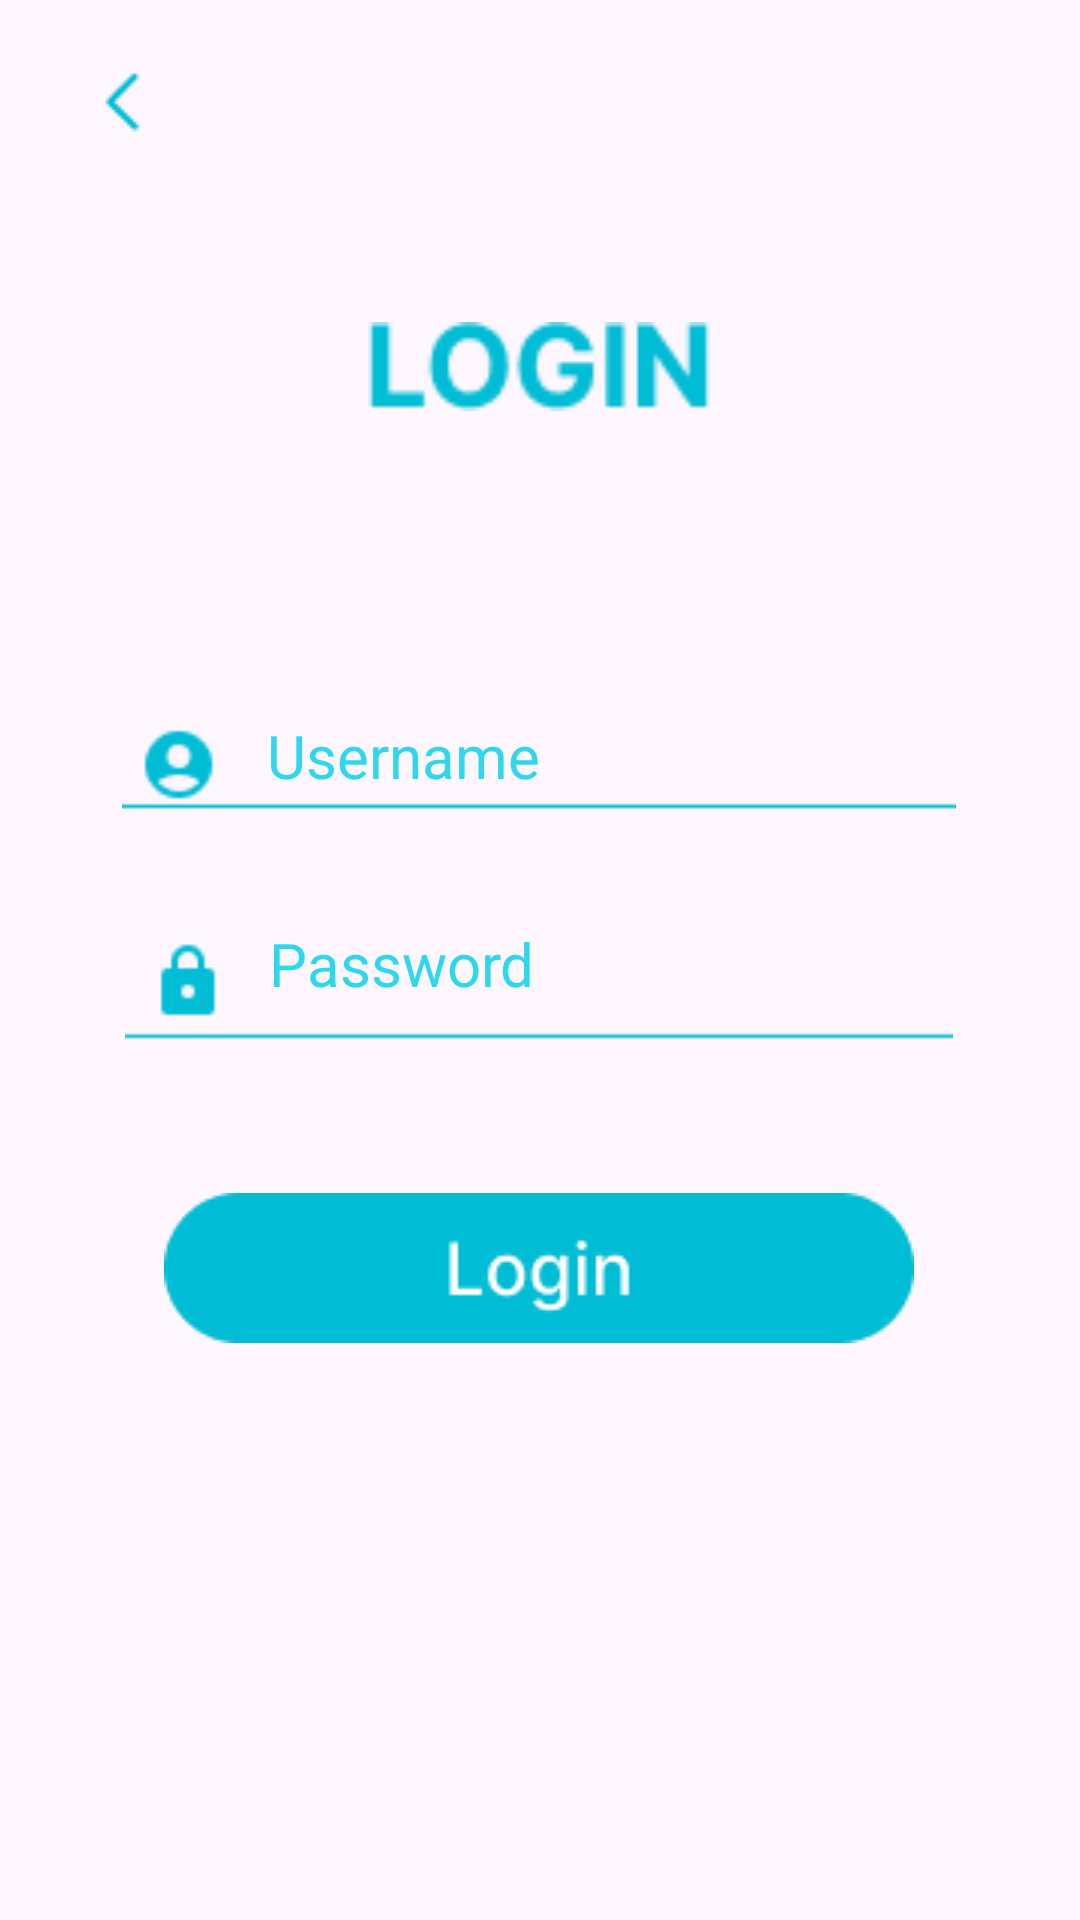

Icon click points for this 1080x1920 phone screenshot, format (x=x, y=y):
panah: (x=122, y=102)
